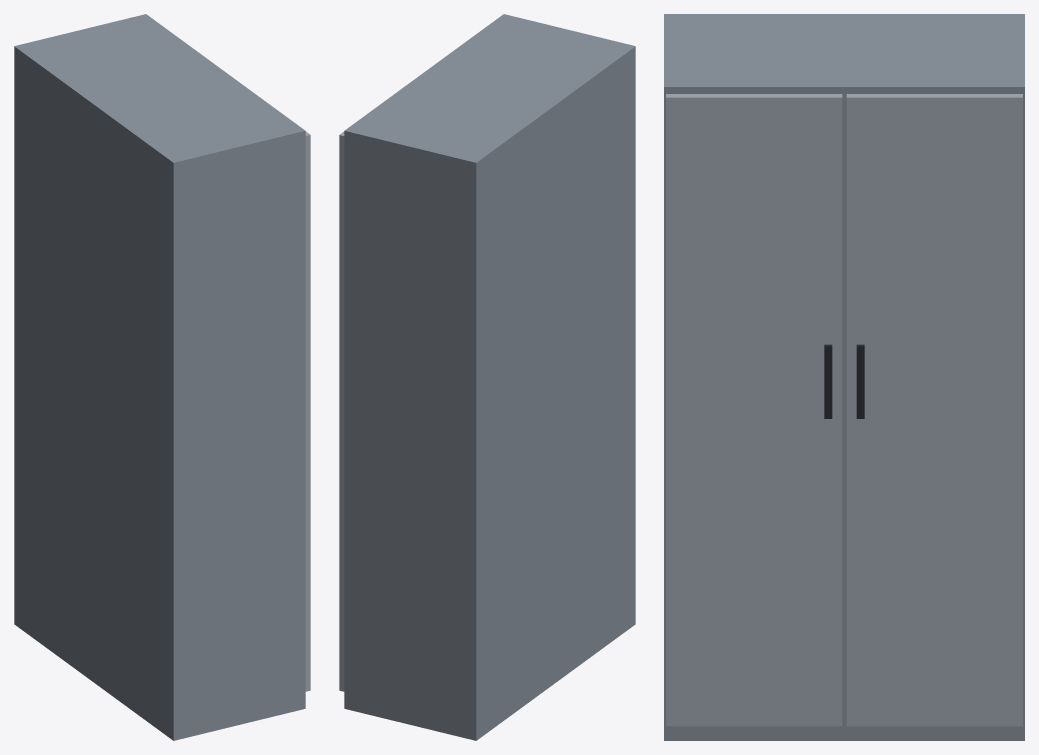
File: armario.glb
3 views of the same model, side by side, from view 1: azimuth 30°, elevation 25°; view 2: azimuth 150°, elevation 25°; view 3: azimuth 270°, elevation 25° (orthographic). The views are drawn at different scales.
Visible parts, largest first — view 1: estrutura; view 2: estrutura; view 3: estrutura.
Boxes of the visible parts, <box> form: estrutura: <box>14,14,310,740</box>; estrutura: <box>339,14,635,740</box>; estrutura: <box>664,14,1024,740</box>.
Bounding box in the file's own units: 0.46 × 1.8 × 0.9.
